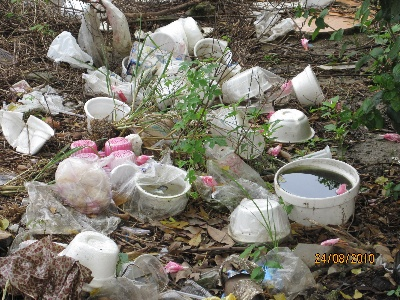bowl: (273, 157, 361, 227), (57, 229, 119, 289), (227, 198, 290, 243), (136, 164, 190, 211), (83, 96, 130, 134), (266, 108, 315, 143), (292, 64, 324, 107), (193, 37, 232, 69)
box: (69, 137, 135, 167)
plastic_bag: (28, 177, 119, 231), (82, 9, 129, 63), (47, 33, 92, 68), (83, 66, 129, 96)
